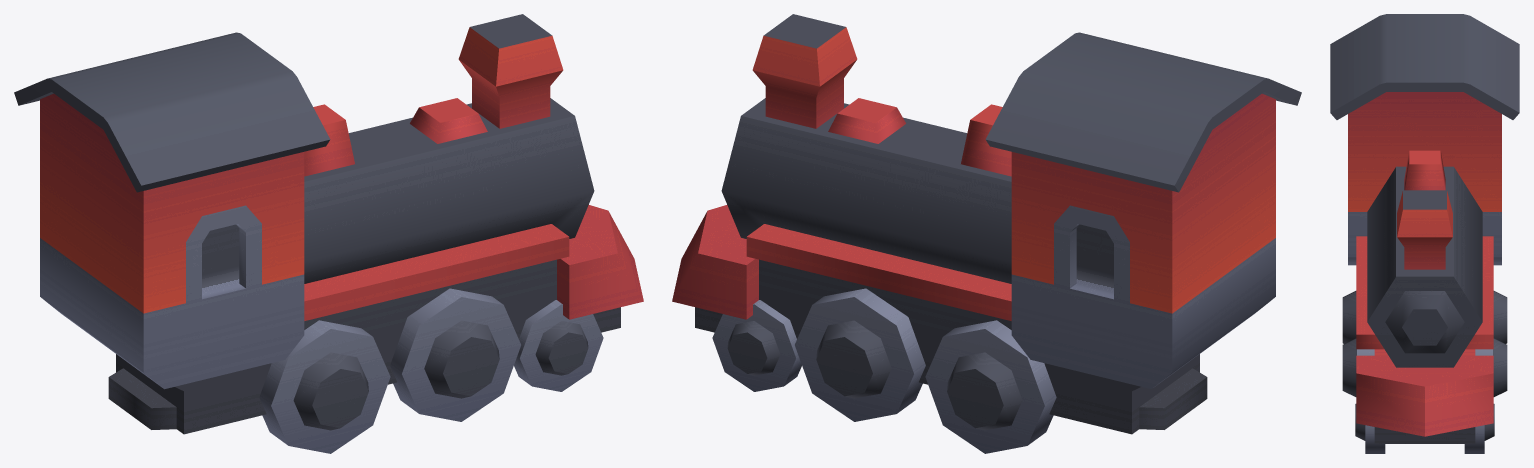
File: train-locomotive.glb
3 renders of one model, left to right at view 1: azimuth 30°, elevation 25°; view 2: azimuth 150°, elevation 25°; view 3: azimuth 270°, elevation 25°, orthographic. The views are drawn at different scales.
Visible parts, largest first — view 1: train-locomotive; view 2: train-locomotive; view 3: train-locomotive.
Boxes of the visible parts, left/top/right/bottom form: train-locomotive: left=14, top=14, right=643, bottom=453; train-locomotive: left=672, top=14, right=1301, bottom=453; train-locomotive: left=1330, top=14, right=1519, bottom=453.
Bounding box in the file's own units: 2.01 × 1.28 × 0.7956.
1 material, 1 textured.
